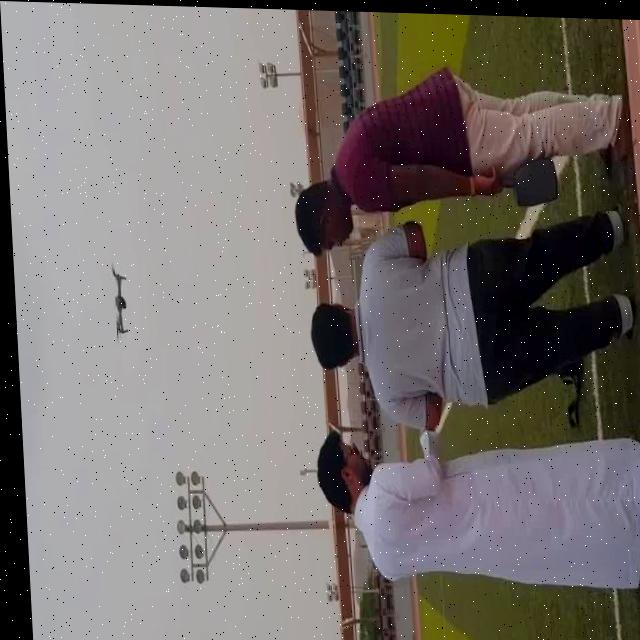drone: (104, 257, 130, 344)
